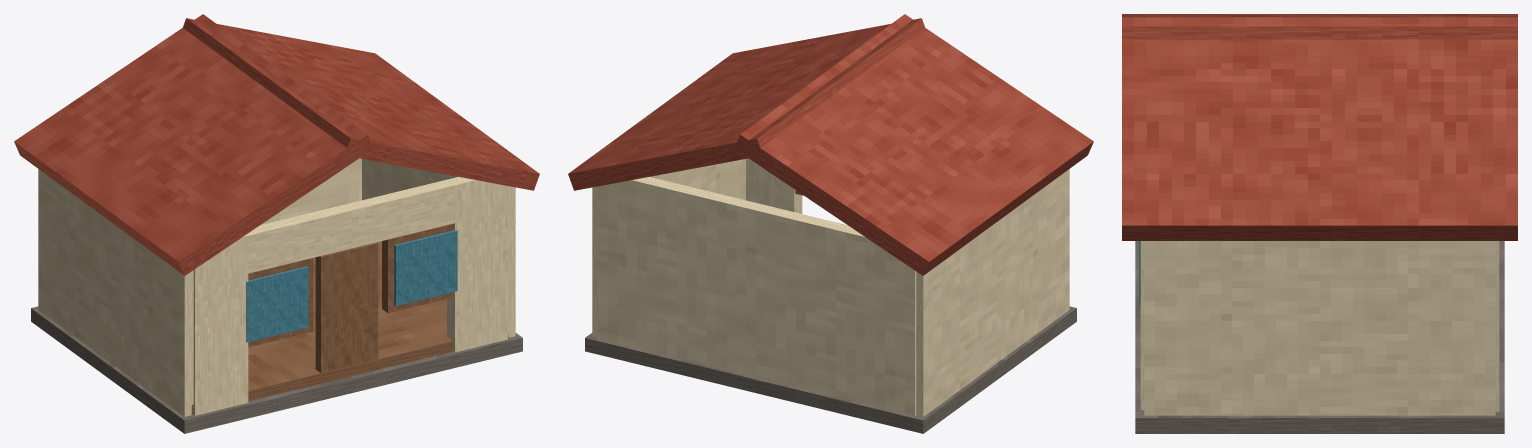
Rendered from cottage-exterior.glb.
3 views of the same model, side by side, from view 1: azimuth 30°, elevation 25°; view 2: azimuth 150°, elevation 25°; view 3: azimuth 270°, elevation 25° (orthographic). The views are drawn at different scales.
Parts seen in each view (by area): view 1: pitched roof (×2), side wall (×2), front masonry (×2), front header, floor slab, foundation, window pane (×2), front door, window frame (×2), rear wall; view 2: pitched roof (×2), rear wall, side wall (×2), foundation, front masonry; view 3: pitched roof (×2), side wall, foundation, rear wall, front masonry.
Part boxes in pixels (x1,y1,x2,y2): pitched roof (×2): [14, 14, 539, 275]; side wall (×2): [38, 159, 515, 416]; front masonry (×2): [193, 177, 507, 415]; front header: [234, 177, 465, 276]; floor slab: [191, 241, 508, 414]; foundation: [31, 306, 522, 433]; window pane (×2): [246, 230, 457, 342]; front door: [315, 242, 378, 372]; window frame (×2): [248, 223, 453, 347]; rear wall: [261, 158, 361, 224]; pitched roof (×2): [568, 14, 1093, 275]; rear wall: [597, 177, 916, 416]; side wall (×2): [592, 159, 1069, 416]; foundation: [585, 306, 1076, 433]; front masonry: [746, 158, 802, 213]; pitched roof (×2): [1122, 14, 1517, 240]; side wall: [1144, 241, 1495, 415]; foundation: [1135, 241, 1504, 433]; rear wall: [1495, 241, 1499, 411]; front masonry: [1140, 241, 1144, 410].
Size of the model in its own units: 3.39 by 2.33 by 2.68.
5 materials, 5 textured.
